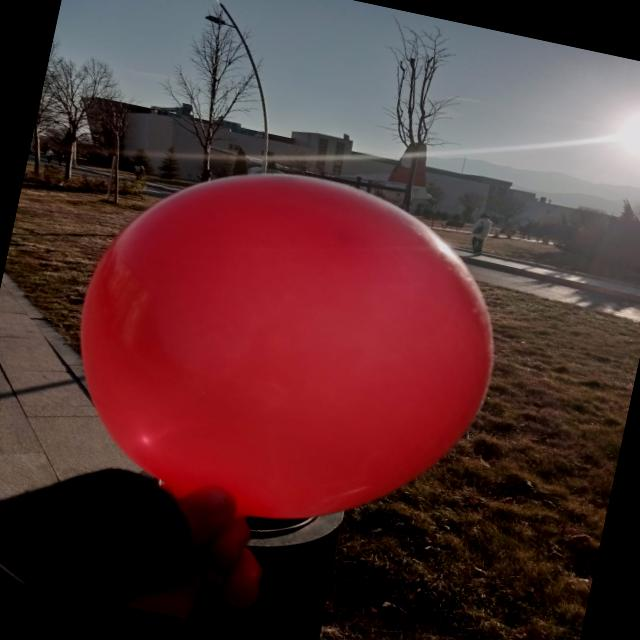balloon: (79, 174, 492, 518)
